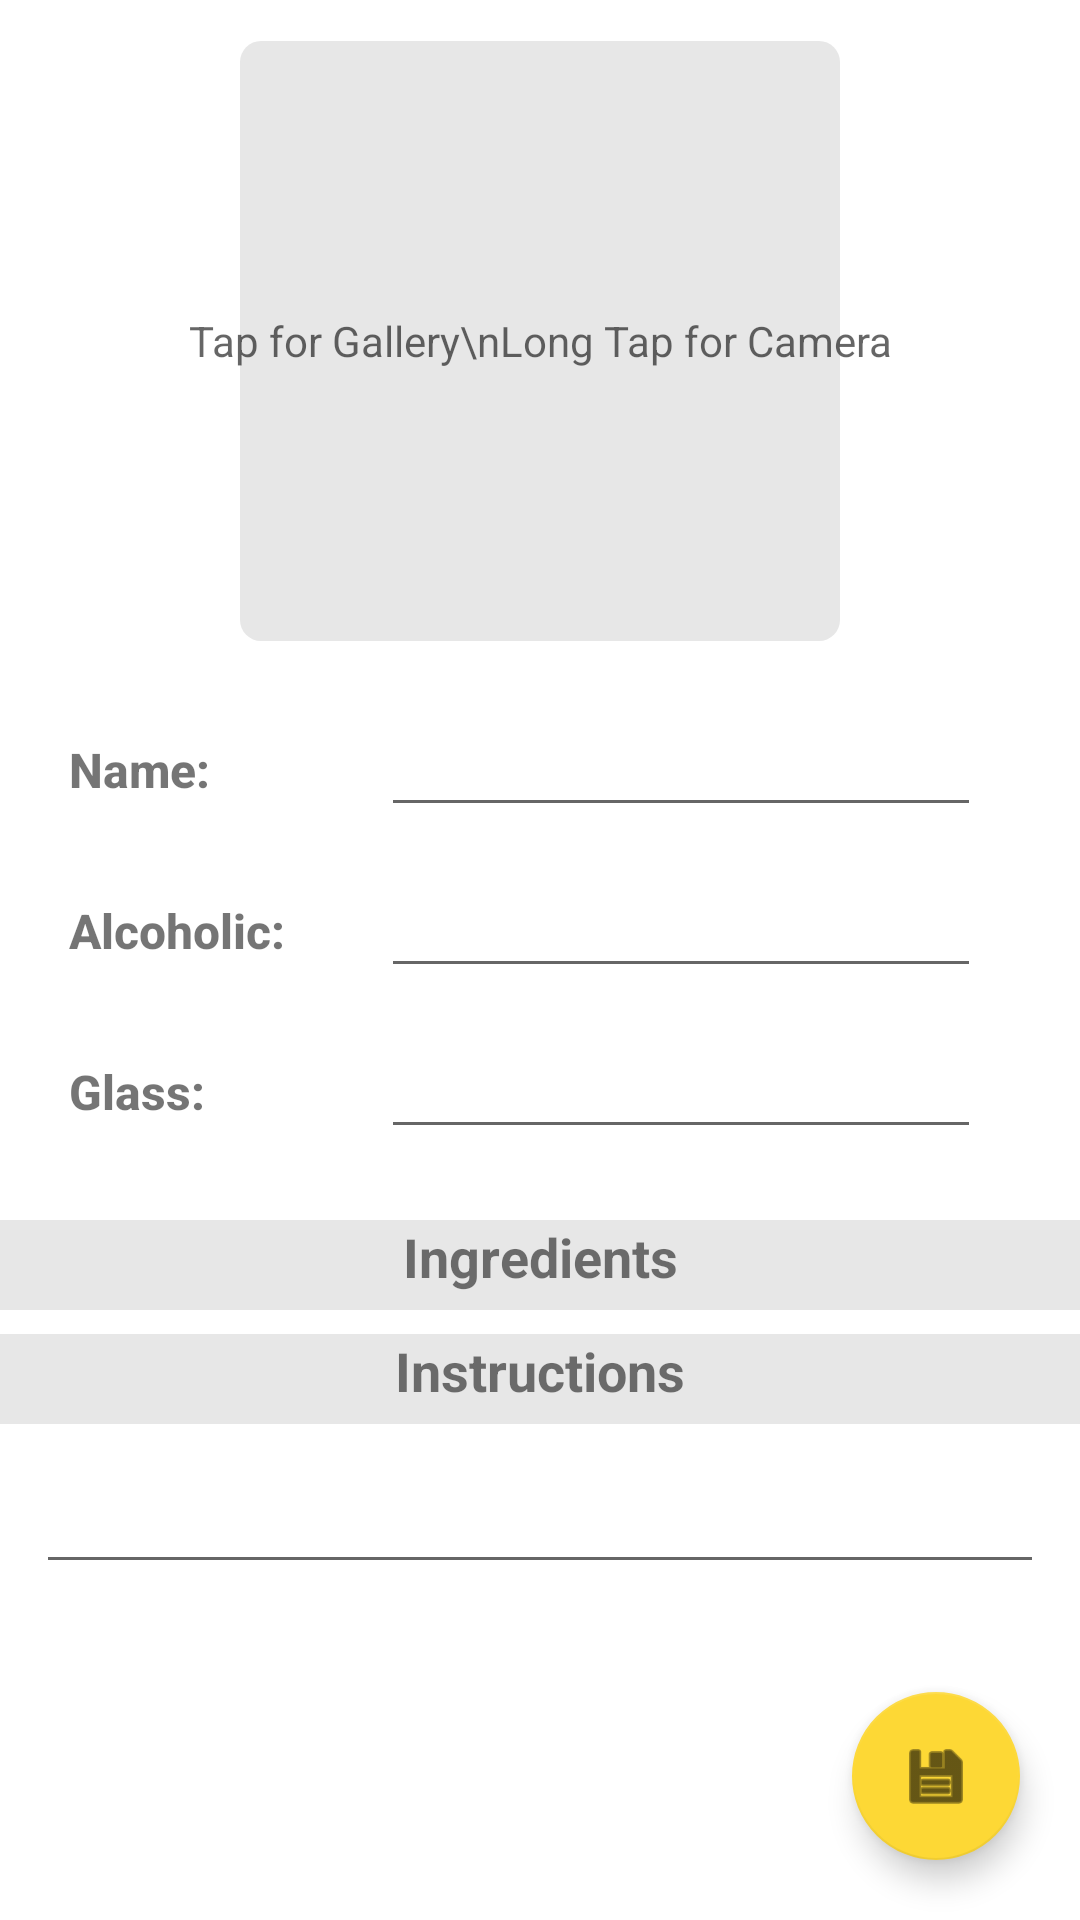

Icon bounding boxes for this 1080x1920 phone screenshot, format (x1, y1, x2, y2):
save: (852, 1692, 1020, 1860)
